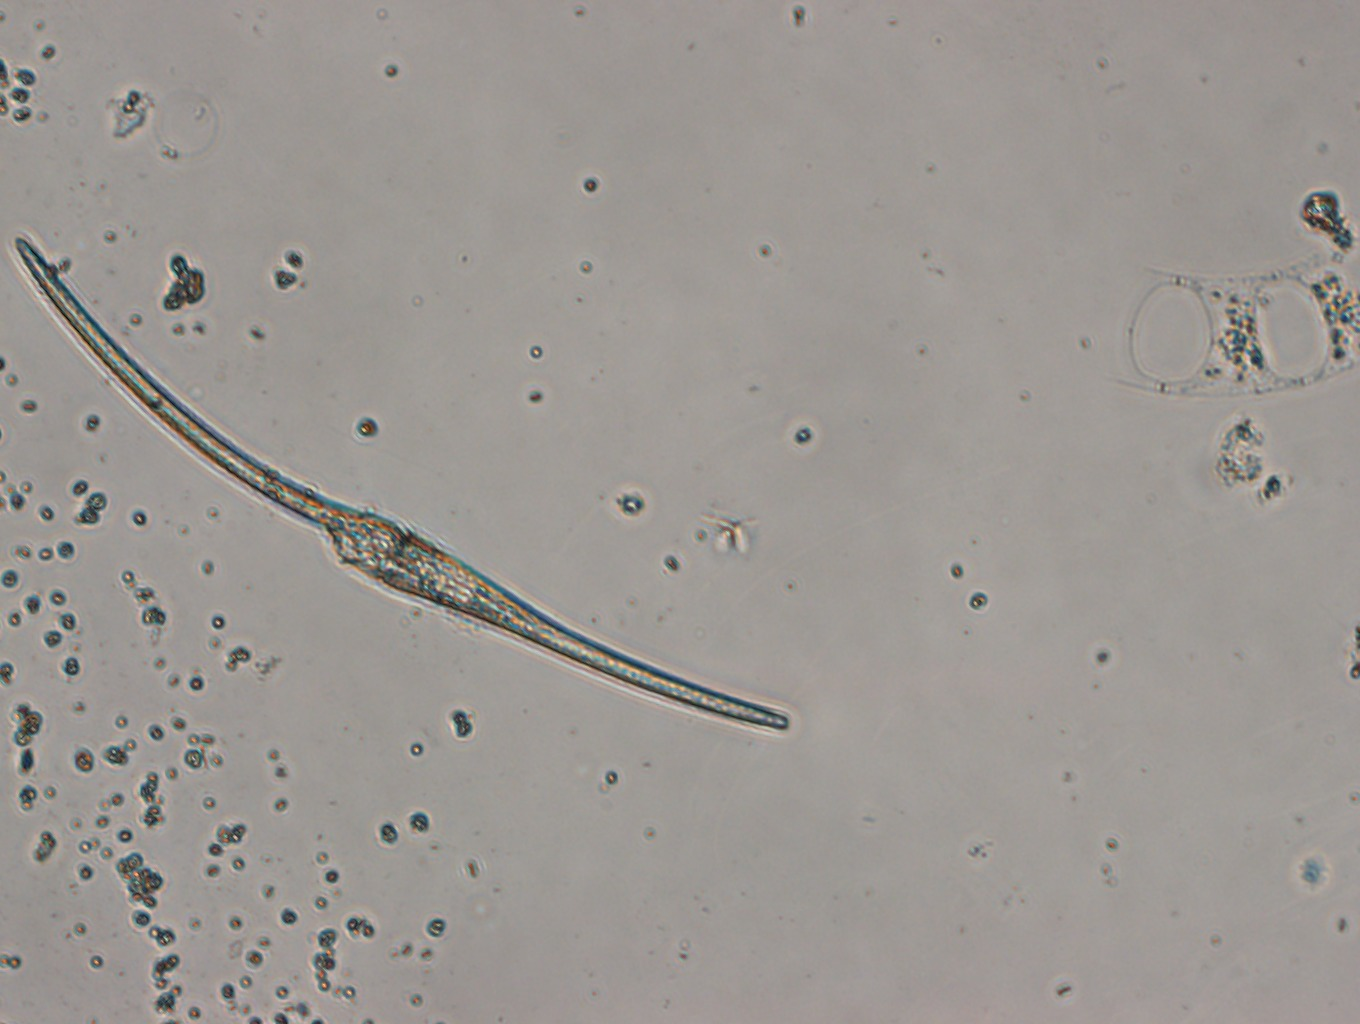ceratium fusus: (11, 234, 792, 733)
eucampia: (1106, 250, 1360, 400)
